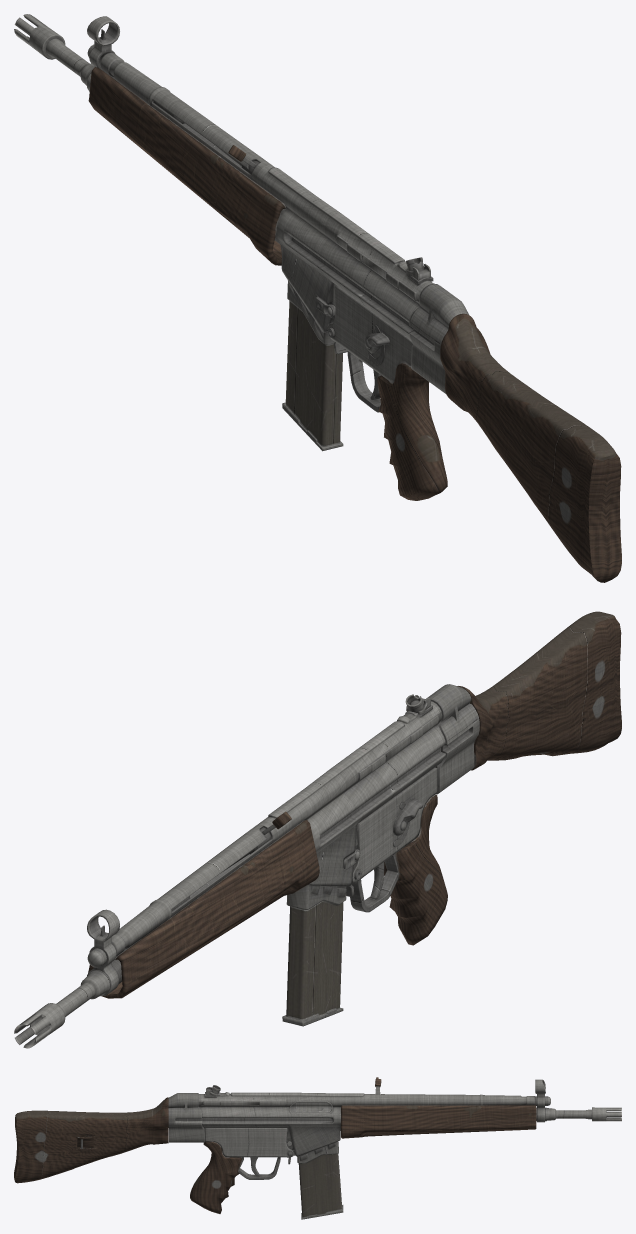
File: battle_rifle.glb
3 renders of one model, top to bottom at view 1: azimuth 30°, elevation 25°; view 2: azimuth 150°, elevation 25°; view 3: azimuth 270°, elevation 25°, orthographic. The views are drawn at different scales.
Parts seen in each view (by area): view 1: body, magazine; view 2: body, magazine; view 3: body, magazine.
Boxes of the visible parts, box(x1,y1,x2,y2) form: body: box(14, 14, 621, 582); magazine: box(282, 281, 343, 451); body: box(14, 611, 621, 1048); magazine: box(282, 885, 346, 1026); body: box(14, 1077, 621, 1213); magazine: box(297, 1141, 343, 1219).
Bounding box in the file's own units: 0.0569 × 0.2543 × 1.02.
1 material, 1 textured.
